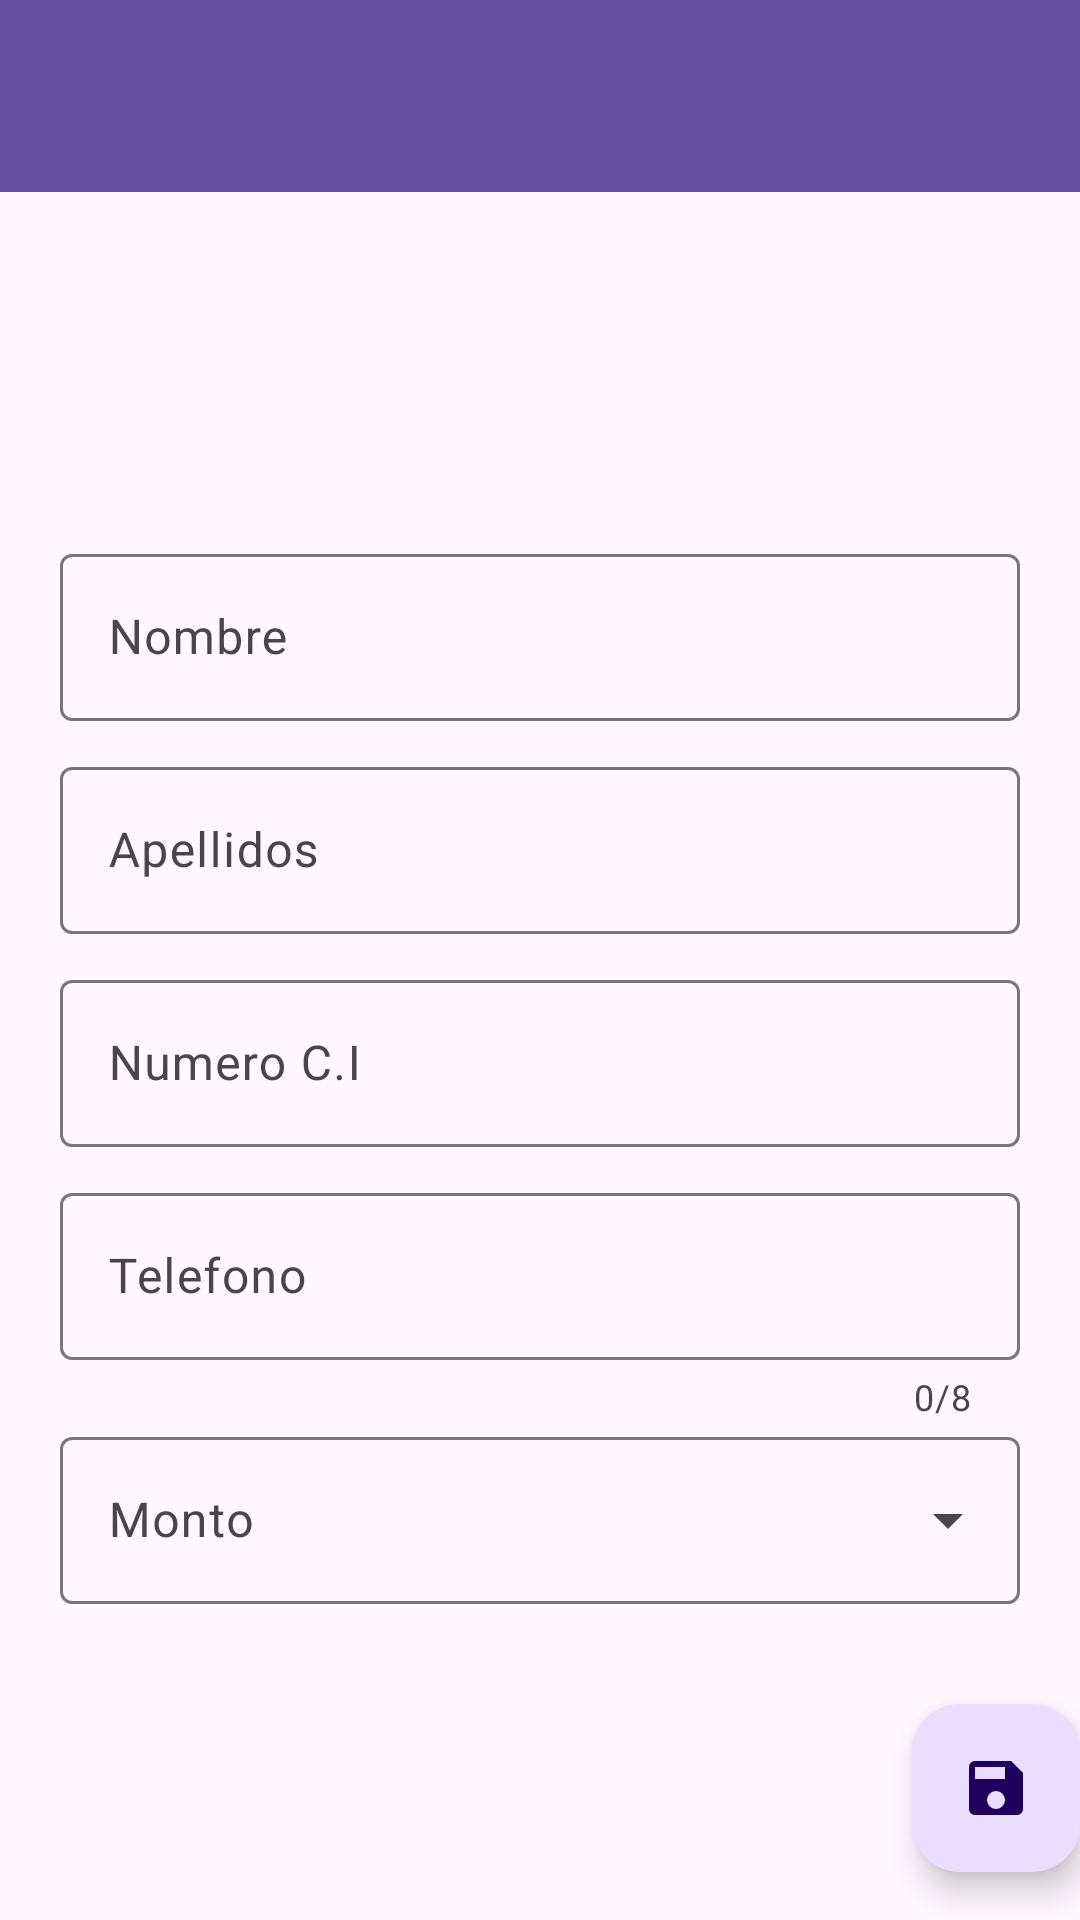

Screen size 1080px×1920px. Icon name, then its box in pixels as (x1, y1, x2, y2):
save: (912, 1704, 1080, 1872)
